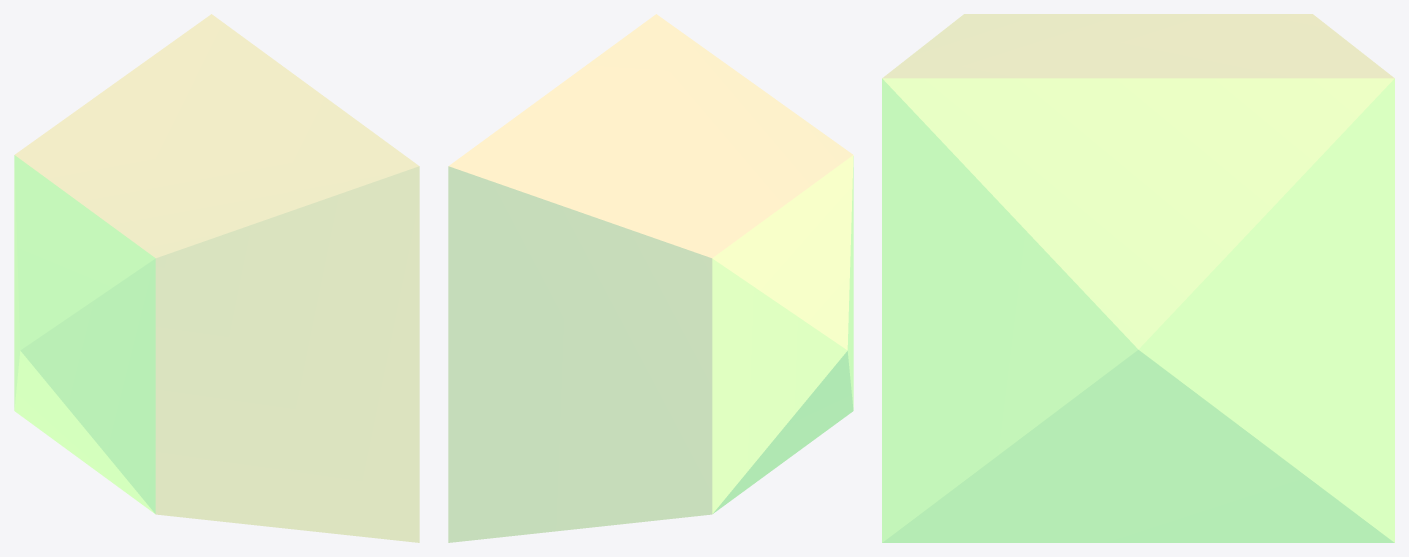
The model's file is SM_RV_Beam.fbx.
3 views of the same model, side by side, from view 1: azimuth 30°, elevation 25°; view 2: azimuth 150°, elevation 25°; view 3: azimuth 270°, elevation 25° (orthographic). The views are drawn at different scales.
Visible parts, largest first — view 1: SM_RV_Beam; view 2: SM_RV_Beam; view 3: SM_RV_Beam.
Part boxes in pixels (x1,y1,x2,y2): SM_RV_Beam: (14,14,419,542); SM_RV_Beam: (448,14,853,542); SM_RV_Beam: (882,14,1394,542).
Bounding box in the file's own units: 100 × 100 × 100.
